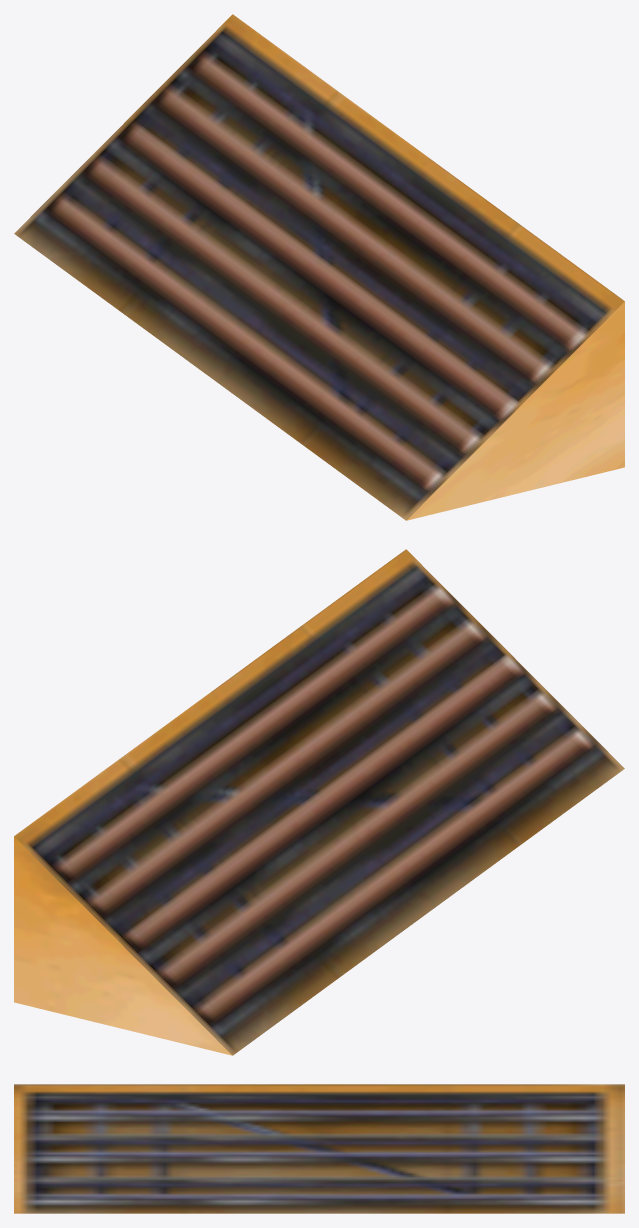
Rendered from bleacher04.glb.
3 views of the same model, one above another, from view 1: azimuth 30°, elevation 25°; view 2: azimuth 150°, elevation 25°; view 3: azimuth 270°, elevation 25° (orthographic). The views are drawn at different scales.
Parts seen in each view (by area): view 1: bleacher04; view 2: bleacher04; view 3: bleacher04.
Part boxes in pixels (x1,y1,x2,y2): bleacher04: [14, 14, 624, 520]; bleacher04: [14, 549, 624, 1055]; bleacher04: [14, 1084, 624, 1213].
Bounding box in the file's own units: 294 × 214 × 913.
1 material, 1 textured.
